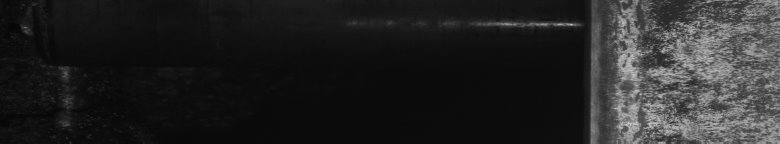kb: (613, 4, 776, 136)
